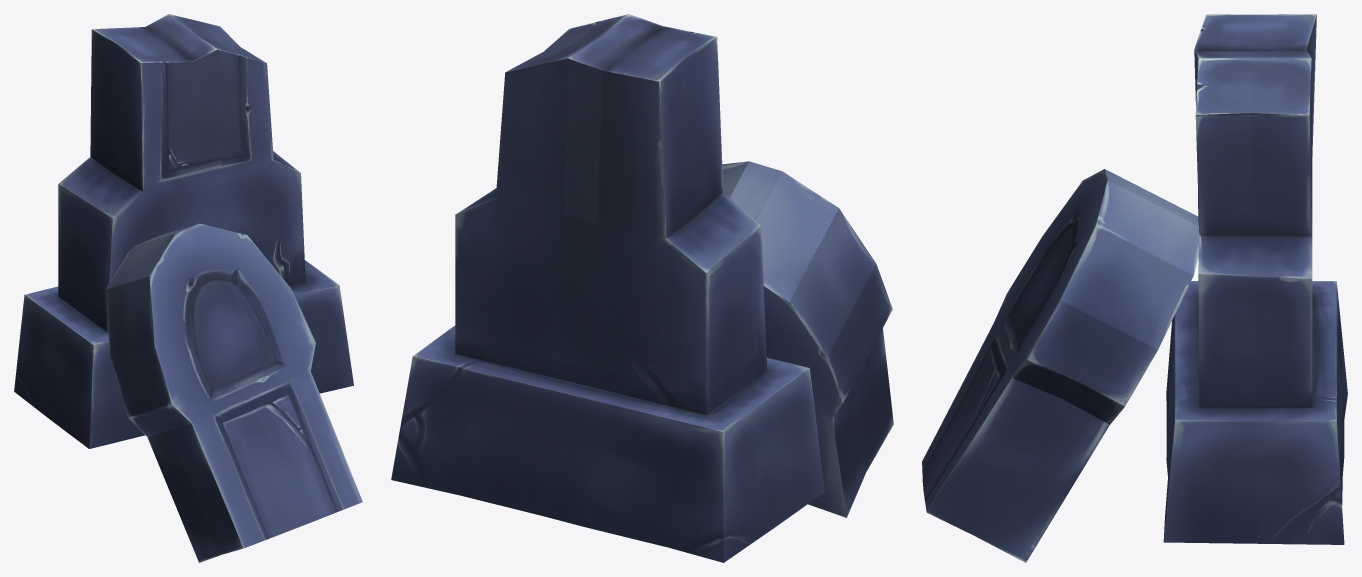
File: gravestone1_4.fbx
3 views of the same model, side by side, from view 1: azimuth 30°, elevation 25°; view 2: azimuth 150°, elevation 25°; view 3: azimuth 270°, elevation 25° (orthographic). The views are drawn at different scales.
Parts seen in each view (by area): view 1: Plane.003; view 2: Plane.003; view 3: Plane.003.
Boxes of the visible parts, x1=… form: Plane.003: x1=14, y1=14, x2=362, y2=562; Plane.003: x1=391, y1=14, x2=893, y2=562; Plane.003: x1=922, y1=14, x2=1347, y2=562.
Bounding box in the file's own units: 220 × 342 × 260.
